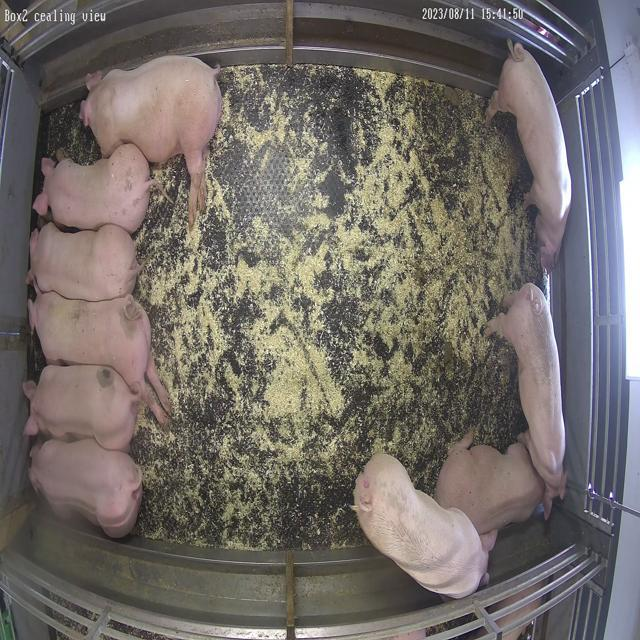Dirt: (433, 332, 527, 452), (407, 78, 476, 200)
Pig: (79, 55, 222, 226), (487, 42, 572, 270), (355, 455, 489, 599), (487, 284, 568, 516), (29, 292, 169, 408), (436, 434, 546, 536), (29, 439, 142, 538), (33, 144, 151, 232), (24, 366, 138, 452), (30, 223, 139, 302)
